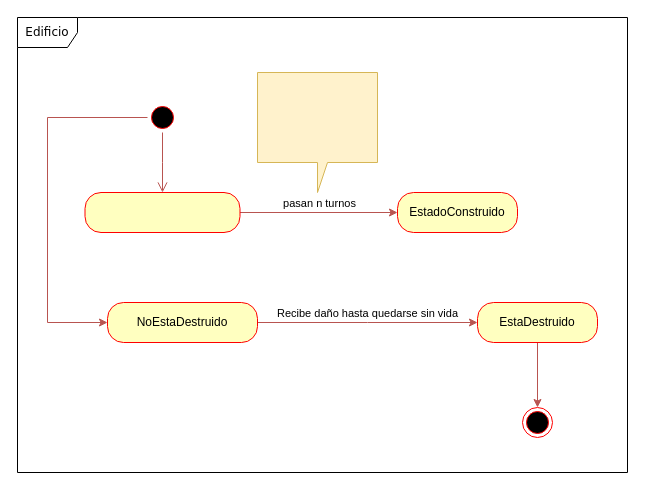
Some shapes in this 645 by 490 pixel diagram are drawn without their labels. Here are the shapes that lost their labels. From the top down, the centre of each, then its label:
[317,132]: para cada tipo de edificio distinto hay una cantidad de turnos diferentes
[162,212]: EstadoEnConstruccion
